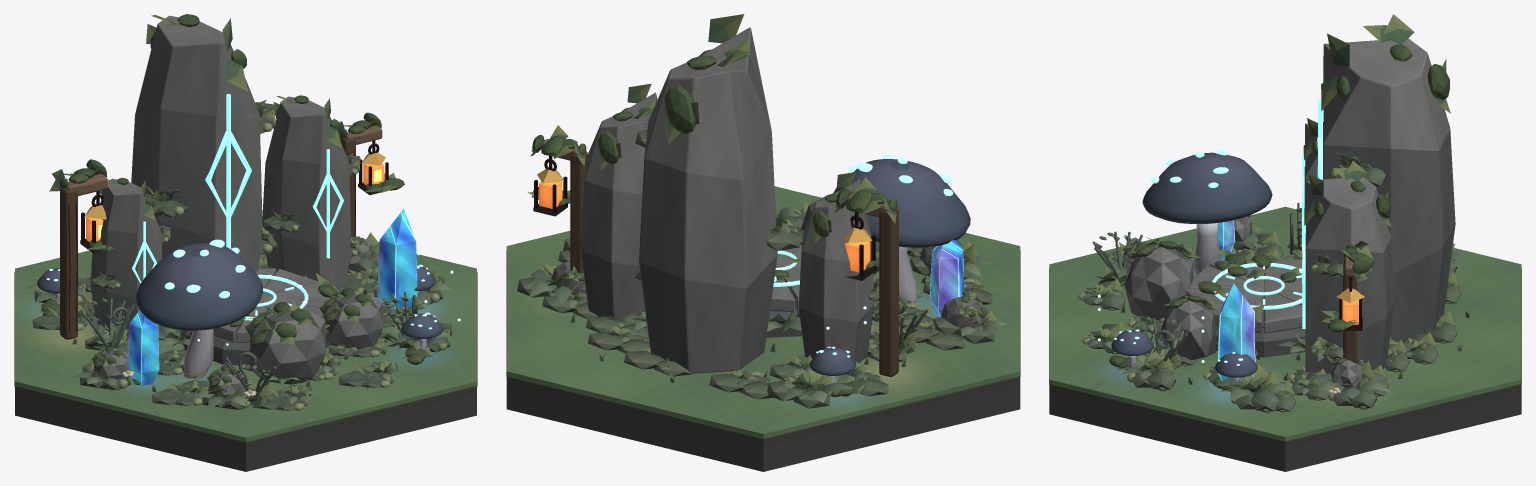
The model's file is hex_rune_shrine.glb.
3 renders of one model, left to right at view 1: azimuth 30°, elevation 25°; view 2: azimuth 150°, elevation 25°; view 3: azimuth 270°, elevation 25°, orthographic. The views are drawn at different scales.
Visible parts, largest first — view 1: Standard hex meadow top.001, Weathered shrine monolith.001, Weathered shrine monolith.003, Standard hex stone foundation.001, Broad faceted mushroom cap.001, Weathered shrine monolith.002, Angular mossy forest boulder.001, Standard hex earth layer.001, Faceted magical crystal.001, Woodland lantern upright.001, Angular mossy forest boulder.002, Faceted magical crystal.002 (+11 smaller); view 2: Weathered shrine monolith.001, Standard hex meadow top.001, Standard hex stone foundation.001, Weathered shrine monolith.003, Weathered shrine monolith.002, Broad faceted mushroom cap.001, Standard hex earth layer.001, Woodland lantern upright.001, Faceted magical crystal.002, Woodland lantern upright.002, Woodland shared moss cushion.120, Broad faceted mushroom cap.003 (+9 smaller); view 3: Standard hex meadow top.001, Weathered shrine monolith.001, Weathered shrine monolith.003, Standard hex stone foundation.001, Broad faceted mushroom cap.001, Standard hex earth layer.001, Angular mossy forest boulder.001, Angular mossy forest boulder.002, Faceted magical crystal.001, Shrine stone pedestal.001, Radial shrine paving stone.008, Curving luminous mushroom stem.001 (+11 smaller).
Boxes of the visible parts, x1=… form: Standard hex meadow top.001: x1=15, y1=250, x2=476, y2=441; Weathered shrine monolith.001: x1=131, y1=15, x2=262, y2=271; Weathered shrine monolith.003: x1=262, y1=96, x2=351, y2=287; Standard hex stone foundation.001: x1=15, y1=394, x2=476, y2=471; Broad faceted mushroom cap.001: x1=136, y1=243, x2=262, y2=330; Weathered shrine monolith.002: x1=90, y1=178, x2=162, y2=332; Angular mossy forest boulder.001: x1=249, y1=309, x2=325, y2=384; Standard hex earth layer.001: x1=15, y1=386, x2=476, y2=449; Faceted magical crystal.001: x1=377, y1=209, x2=417, y2=310; Woodland lantern upright.001: x1=60, y1=188, x2=77, y2=339; Angular mossy forest boulder.002: x1=325, y1=293, x2=382, y2=349; Faceted magical crystal.002: x1=127, y1=310, x2=159, y2=385; Weathered shrine monolith.001: x1=639, y1=27, x2=777, y2=373; Standard hex meadow top.001: x1=506, y1=186, x2=1020, y2=438; Standard hex stone foundation.001: x1=506, y1=385, x2=1020, y2=471; Weathered shrine monolith.003: x1=580, y1=92, x2=657, y2=319; Weathered shrine monolith.002: x1=798, y1=179, x2=874, y2=363; Broad faceted mushroom cap.001: x1=833, y1=159, x2=970, y2=247; Standard hex earth layer.001: x1=506, y1=377, x2=1020, y2=447; Woodland lantern upright.001: x1=879, y1=207, x2=898, y2=376; Faceted magical crystal.002: x1=930, y1=240, x2=964, y2=317; Woodland lantern upright.002: x1=570, y1=151, x2=587, y2=273; Woodland shared moss cushion.120: x1=664, y1=83, x2=696, y2=133; Broad faceted mushroom cap.003: x1=809, y1=347, x2=855, y2=375; Standard hex meadow top.001: x1=1049, y1=206, x2=1521, y2=440; Weathered shrine monolith.001: x1=1323, y1=38, x2=1455, y2=341; Weathered shrine monolith.003: x1=1305, y1=177, x2=1394, y2=373; Standard hex stone foundation.001: x1=1049, y1=392, x2=1521, y2=471; Broad faceted mushroom cap.001: x1=1142, y1=152, x2=1272, y2=223; Standard hex earth layer.001: x1=1049, y1=384, x2=1521, y2=449; Angular mossy forest boulder.001: x1=1124, y1=244, x2=1193, y2=320; Angular mossy forest boulder.002: x1=1161, y1=298, x2=1215, y2=360; Faceted magical crystal.001: x1=1218, y1=283, x2=1255, y2=381; Shrine stone pedestal.001: x1=1215, y1=268, x2=1305, y2=357; Radial shrine paving stone.008: x1=1264, y1=288, x2=1302, y2=333; Curving luminous mushroom stem.001: x1=1193, y1=223, x2=1221, y2=275.
Size of the model in its own units: 5.11 by 3.32 by 4.42.
47 materials, 34 textured.
